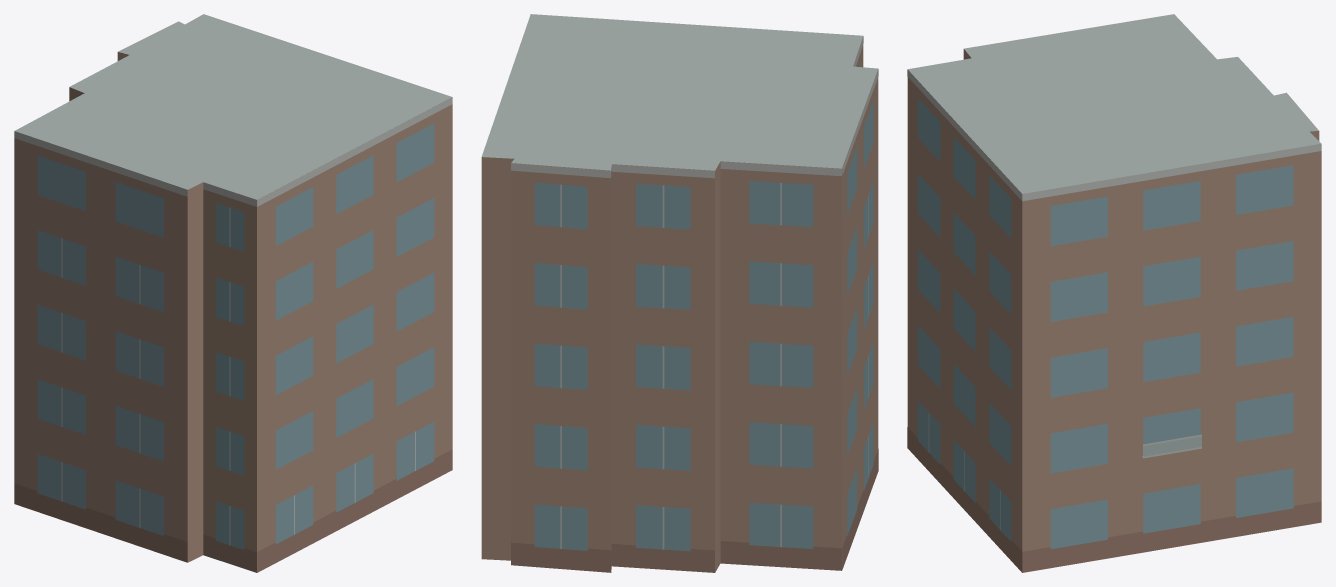
The model's file is survey-upis-32747409.glb.
3 renders of one model, left to right at view 1: azimuth 30°, elevation 25°; view 2: azimuth 150°, elevation 25°; view 3: azimuth 270°, elevation 25°, orthographic. The views are drawn at different scales.
Parts seen in each view (by area): view 1: survey-upis-32747409.tmp; view 2: survey-upis-32747409.tmp; view 3: survey-upis-32747409.tmp.
Boxes of the visible parts, <box> form: survey-upis-32747409.tmp: <box>14,14,452,572</box>; survey-upis-32747409.tmp: <box>481,14,878,572</box>; survey-upis-32747409.tmp: <box>907,14,1321,572</box>.
Bounding box in the file's own units: 13.17 × 12.9 × 12.79.
